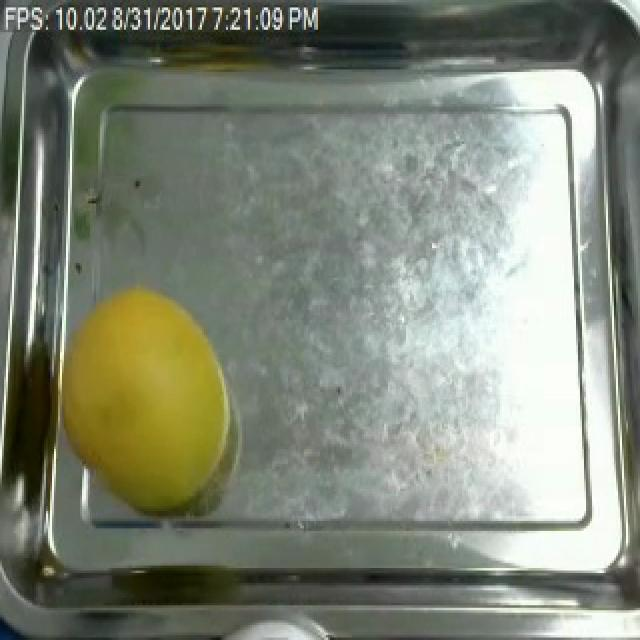fruit: (42, 268, 248, 533)
